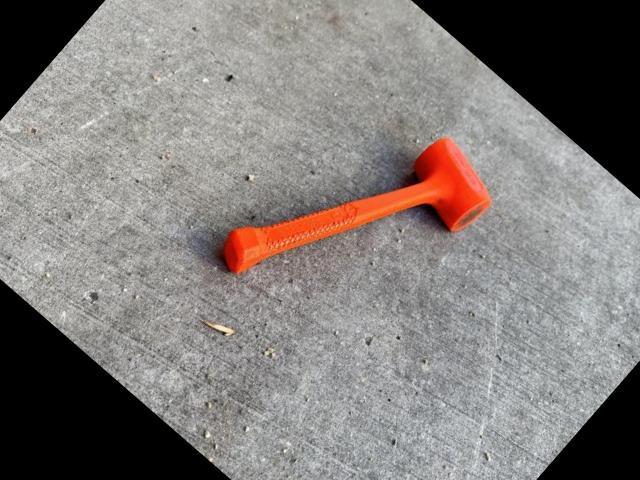hammer: (212, 69, 505, 368)
